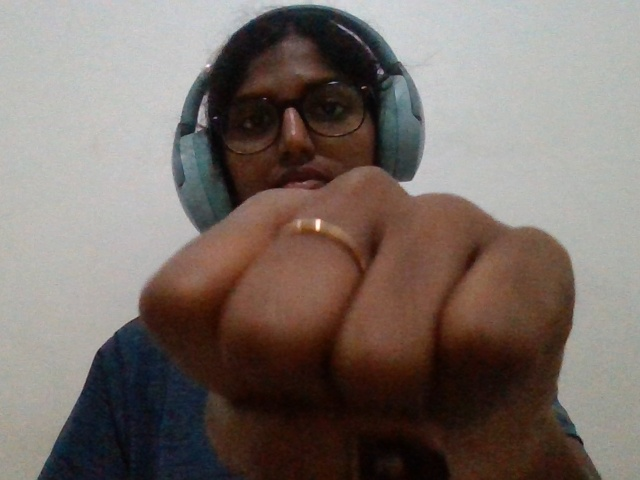Yes: (110, 142, 634, 480)
